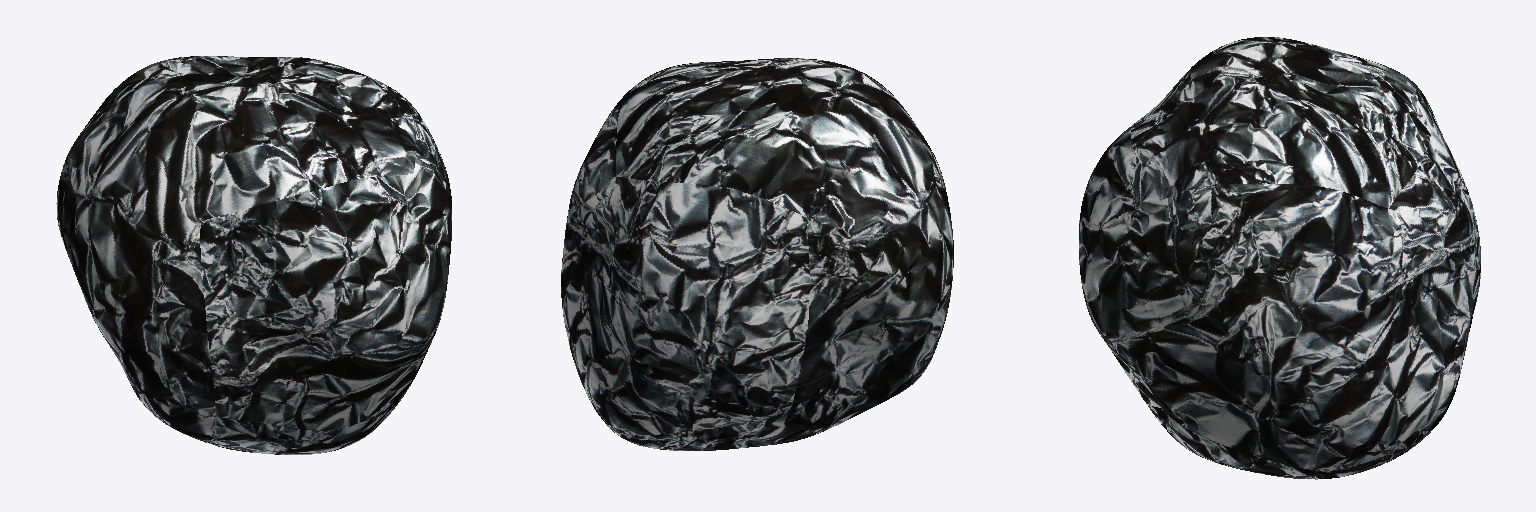
The picture shows the model from 3 angles: view 1: azimuth 30°, elevation 25°; view 2: azimuth 150°, elevation 25°; view 3: azimuth 270°, elevation 25°; orthographic projection.
Visible parts, largest first — view 1: 10464_Asteroid_v1; view 2: 10464_Asteroid_v1; view 3: 10464_Asteroid_v1.
Part boxes in pixels (left/top/right/bottom): 10464_Asteroid_v1: left=56, top=56, right=451, bottom=454; 10464_Asteroid_v1: left=561, top=58, right=953, bottom=450; 10464_Asteroid_v1: left=1079, top=37, right=1480, bottom=479.
Bounding box in the file's own units: 1365 × 1383 × 1377.
1 materials, 1 textured.